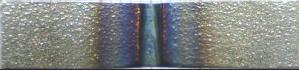soldas: (89, 1, 205, 68)
